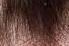plaque psoriasis: (5, 10, 51, 46), (50, 11, 69, 46)
